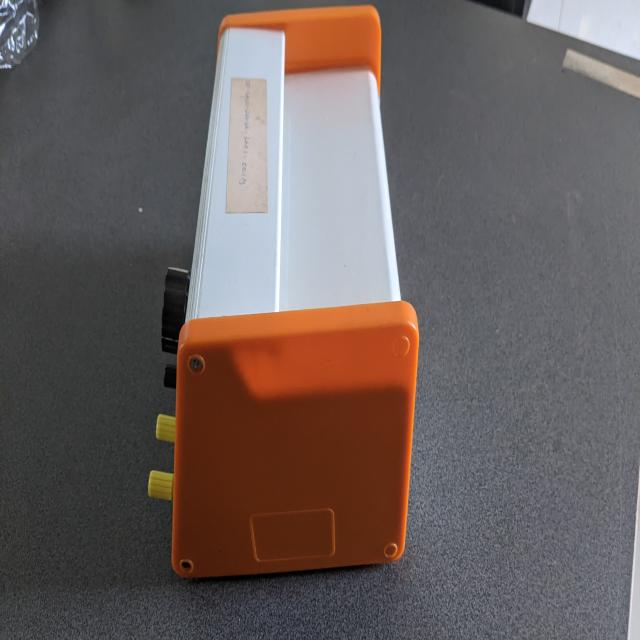AC and DC Power Supply 24V: (144, 0, 423, 583)
